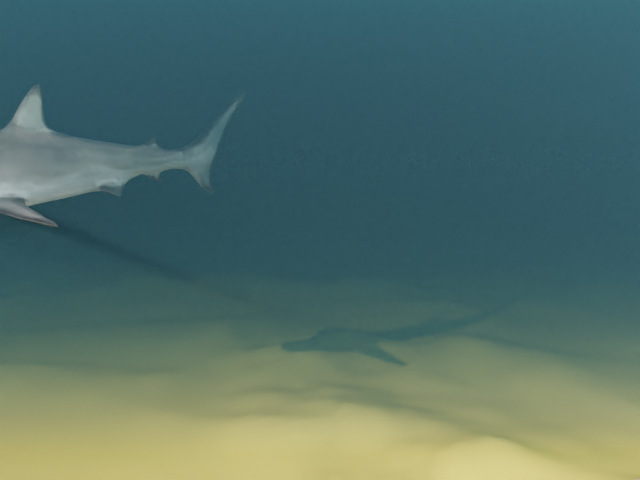Carribean Shark.001: (0, 84, 247, 226)
